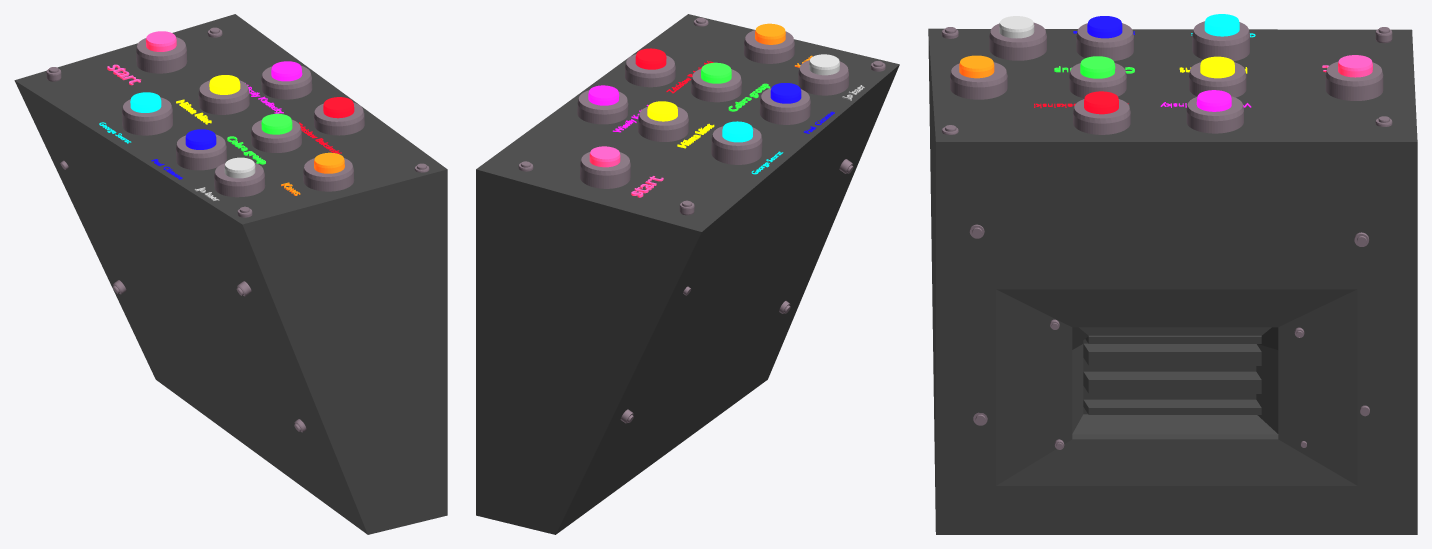
File: button pannel 1.3.fbx
3 views of the same model, side by side, from view 1: azimuth 30°, elevation 25°; view 2: azimuth 150°, elevation 25°; view 3: azimuth 270°, elevation 25° (orthographic). The views are drawn at different scales.
Visible parts, largest first — view 1: Cube, Cylinder.005, Cylinder.008, Cylinder.021, Cylinder.004, Cylinder.007, Cylinder.006, Cylinder.002, Cylinder.001, Cylinder.003, Cylinder.013, Cylinder.012 (+8 smaller); view 2: Cube, Cylinder.005, Cylinder.008, Cylinder.021, Cylinder.004, Cylinder.007, Cylinder.006, Cylinder.001, Cylinder.002, Cylinder.003, Cylinder.012, Cylinder.016 (+8 smaller); view 3: Cube, Cylinder.008, Cylinder.005, Cylinder.007, Cylinder.006, Cylinder.021, Cylinder.001, Cylinder.003, Cylinder.002, Cylinder.004, Cylinder.011, Cylinder.012 (+9 smaller).
Boxes of the visible parts, left/top/right/bottom form: Cube: left=14, top=14, right=447, bottom=534; Cylinder.005: left=122, top=97, right=172, bottom=135; Cylinder.008: left=136, top=37, right=187, bottom=73; Cylinder.021: left=176, top=134, right=226, bottom=170; Cylinder.004: left=198, top=80, right=249, bottom=114; Cylinder.007: left=214, top=162, right=265, bottom=197; Cylinder.006: left=261, top=65, right=312, bottom=99; Cylinder.002: left=251, top=119, right=301, bottom=152; Cylinder.001: left=303, top=158, right=354, bottom=191; Cylinder.003: left=313, top=102, right=364, bottom=135; Cylinder.013: left=224, top=157, right=255, bottom=178; Cylinder.012: left=323, top=97, right=354, bottom=118; Cube: left=476, top=14, right=899, bottom=534; Cylinder.005: left=711, top=126, right=762, bottom=164; Cylinder.008: left=580, top=152, right=630, bottom=188; Cylinder.021: left=759, top=88, right=810, bottom=124; Cylinder.004: left=638, top=106, right=688, bottom=141; Cylinder.007: left=798, top=60, right=848, bottom=95; Cylinder.006: left=577, top=90, right=628, bottom=124; Cylinder.001: left=743, top=30, right=794, bottom=63; Cylinder.002: left=691, top=68, right=741, bottom=102; Cylinder.003: left=624, top=54, right=675, bottom=87; Cylinder.012: left=635, top=48, right=666, bottom=69; Cylinder.016: left=589, top=146, right=620, bottom=167; Cube: left=928, top=28, right=1417, bottom=534; Cylinder.008: left=1325, top=61, right=1383, bottom=100; Cylinder.005: left=1192, top=21, right=1249, bottom=61; Cylinder.007: left=989, top=22, right=1046, bottom=60; Cylinder.006: left=1186, top=96, right=1243, bottom=133; Cylinder.021: left=1076, top=23, right=1133, bottom=60; Cylinder.001: left=950, top=62, right=1007, bottom=99; Cylinder.003: left=1073, top=99, right=1130, bottom=134; Cylinder.002: left=1069, top=63, right=1126, bottom=98; Cylinder.004: left=1189, top=62, right=1246, bottom=97; Cylinder.011: left=959, top=55, right=994, bottom=78; Cylinder.012: left=1084, top=91, right=1118, bottom=114.
Bounding box in the file's own units: 61.9 × 95.57 × 101.
